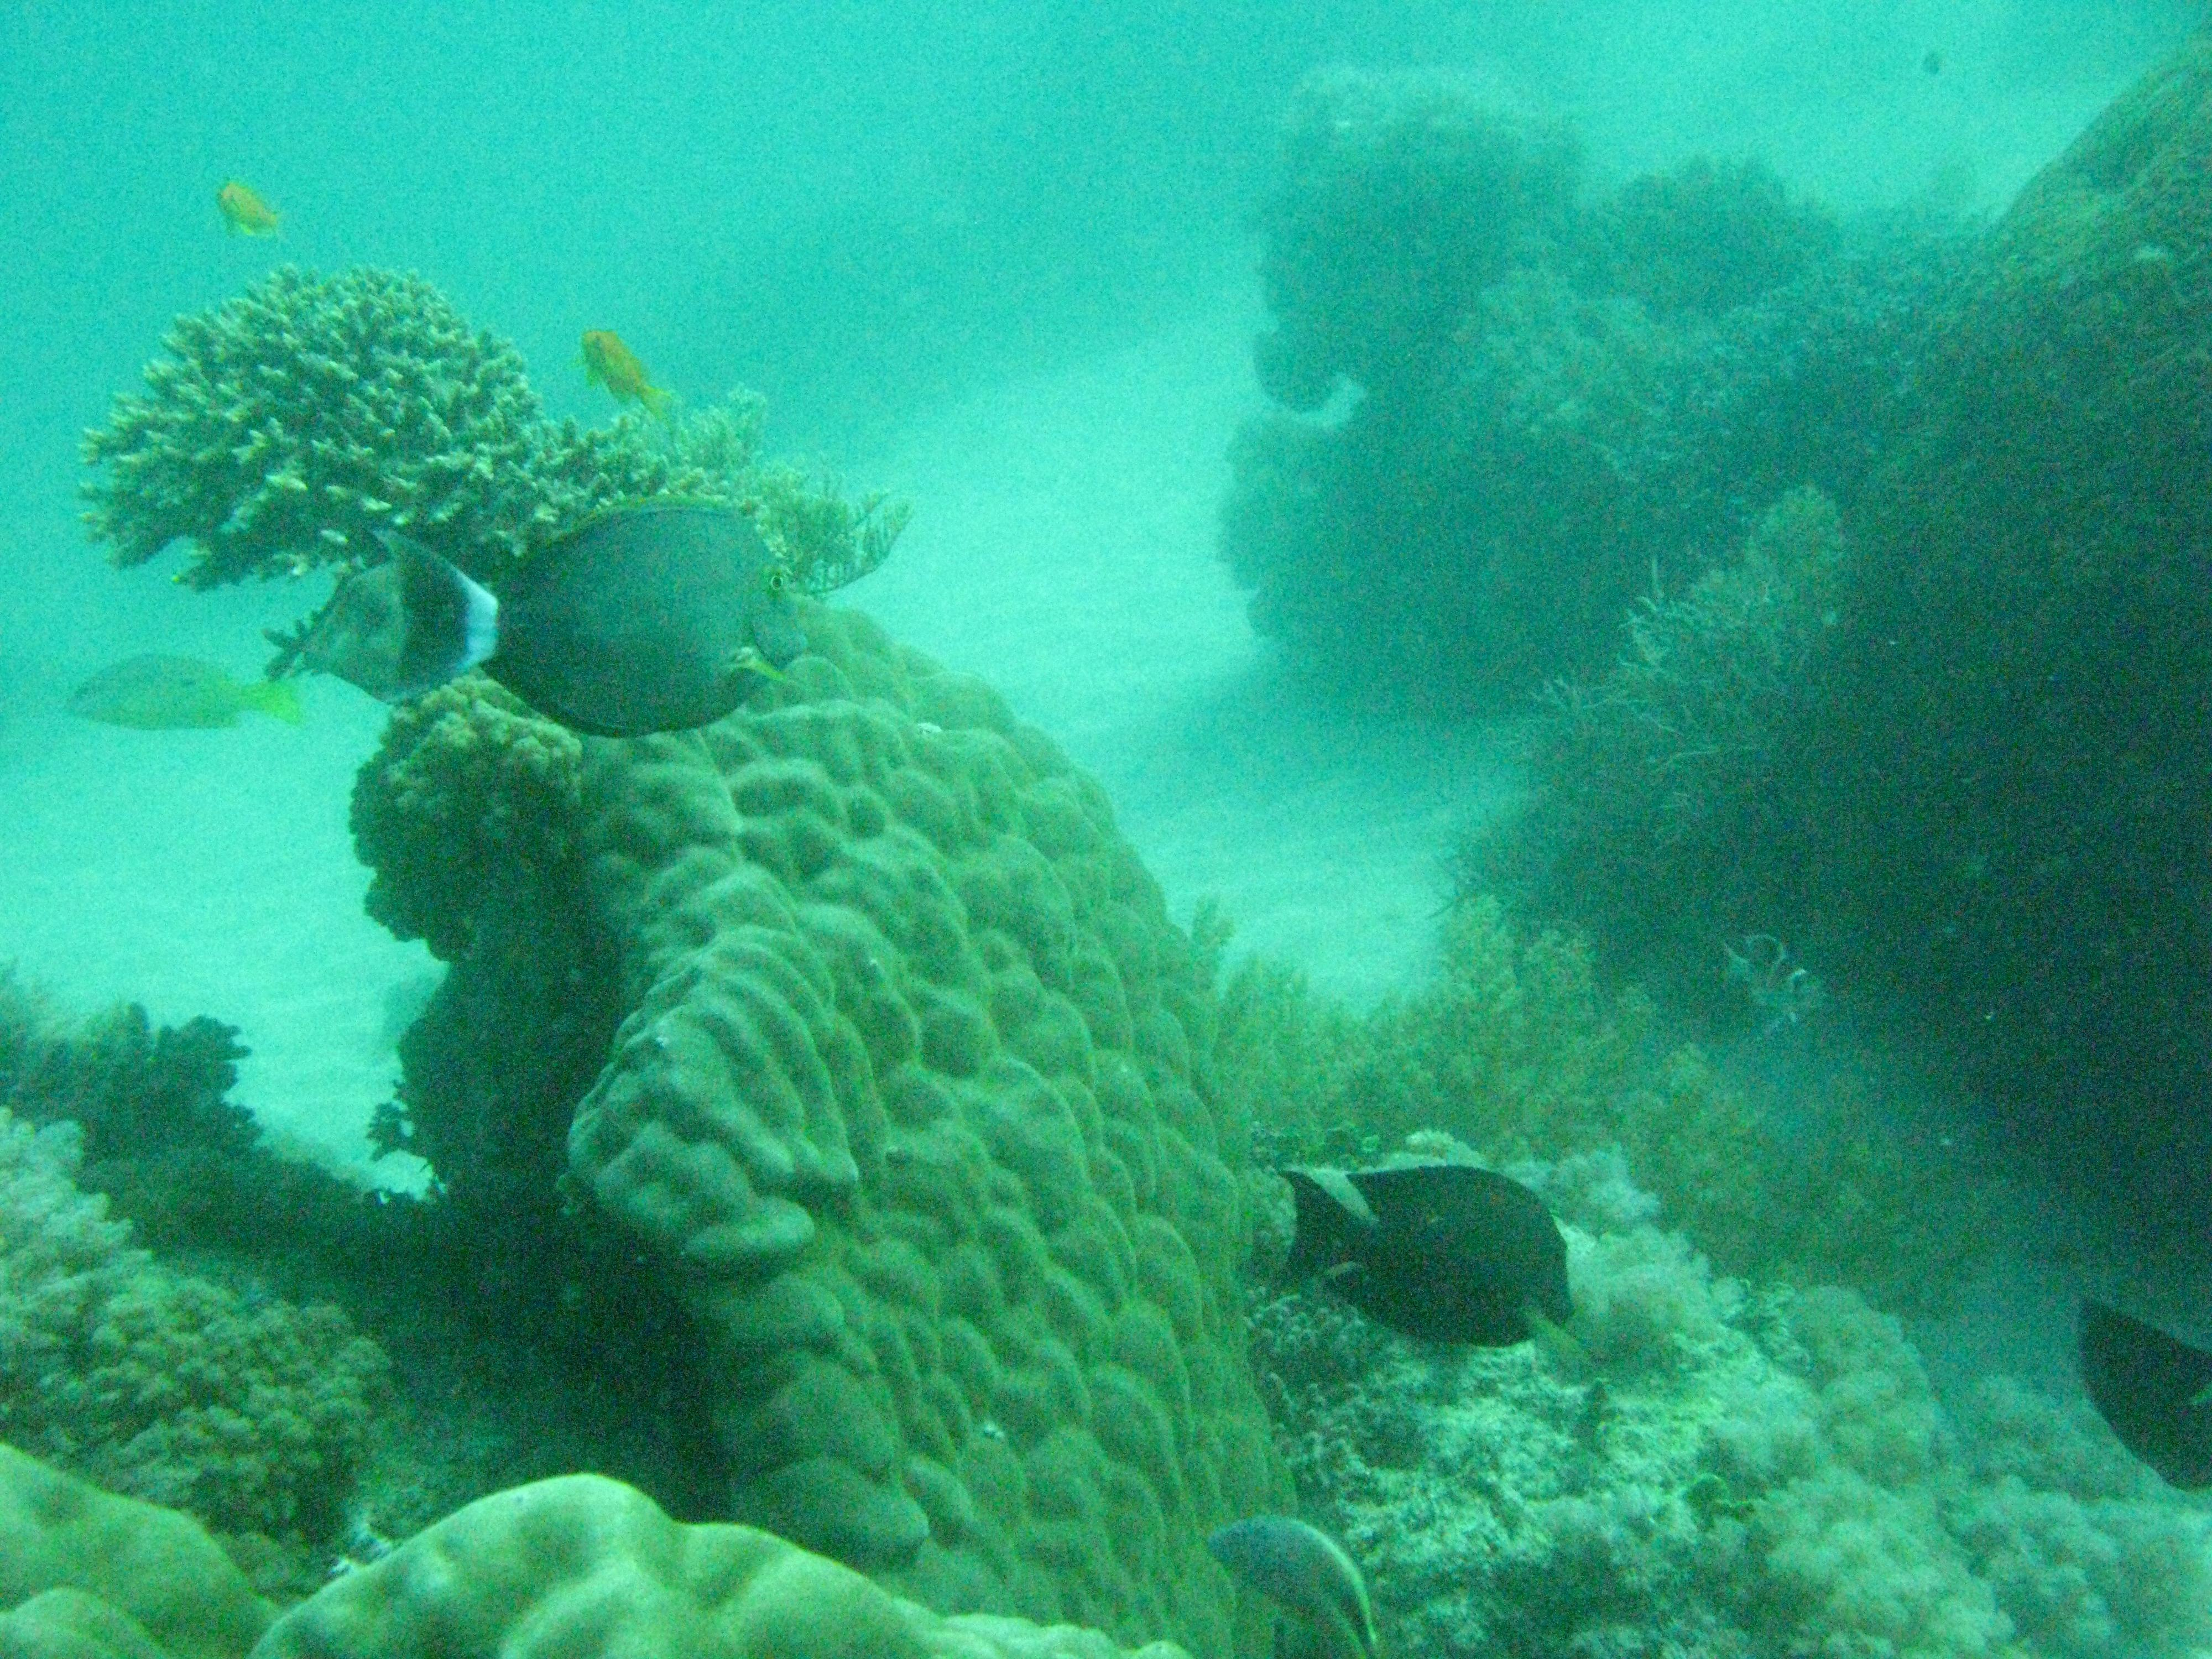Fish: (340, 472, 888, 796)
